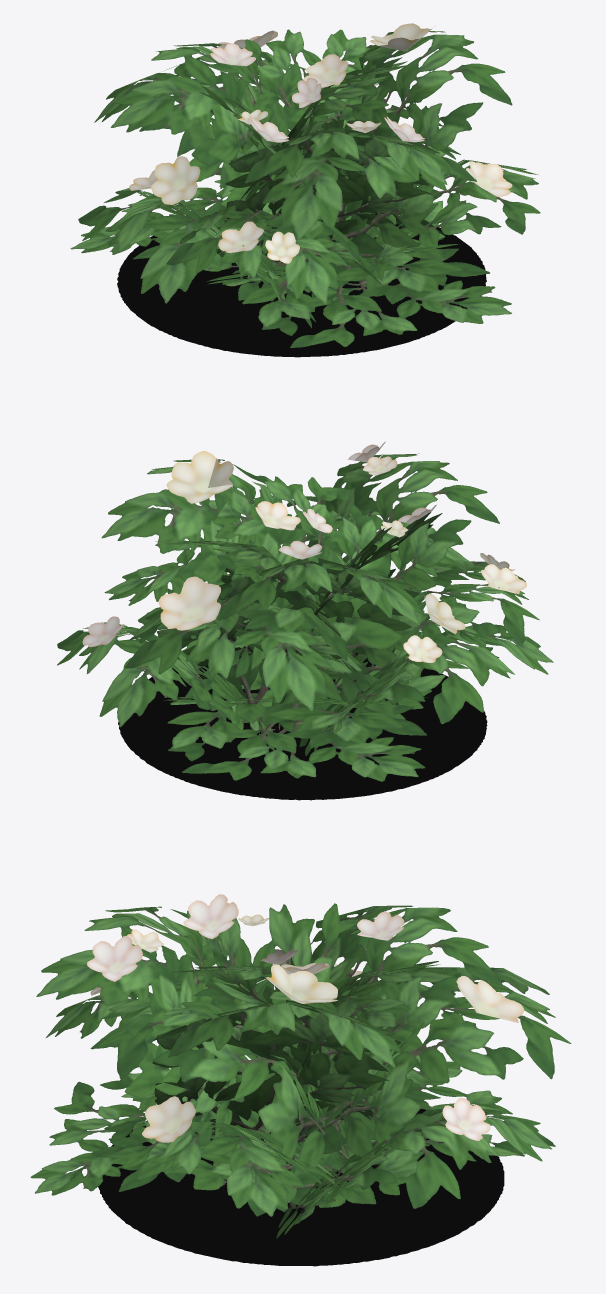
File: jj_tyhua06.FBX
3 renders of one model, top to bottom at view 1: azimuth 30°, elevation 25°; view 2: azimuth 150°, elevation 25°; view 3: azimuth 270°, elevation 25°, orthographic. The views are drawn at different scales.
Visible parts, largest first — view 1: jj_tyhua06, shadow; view 2: jj_tyhua06, shadow; view 3: jj_tyhua06, shadow.
Boxes of the visible parts, left/top/right/bottom form: jj_tyhua06: left=70, top=23, right=540, bottom=347; shadow: left=117, top=213, right=486, bottom=357; jj_tyhua06: left=57, top=441, right=553, bottom=781; shadow: left=118, top=653, right=487, bottom=800; jj_tyhua06: left=30, top=894, right=571, bottom=1238; shadow: left=98, top=1108, right=504, bottom=1266.
Size of the model in its own units: 130 by 80.07 by 133.
2 materials, 2 textured.
